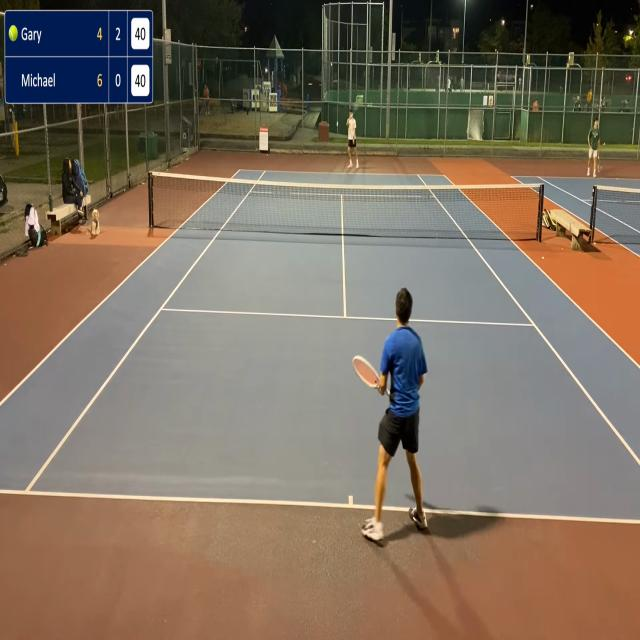ball: (336, 121, 338, 127)
